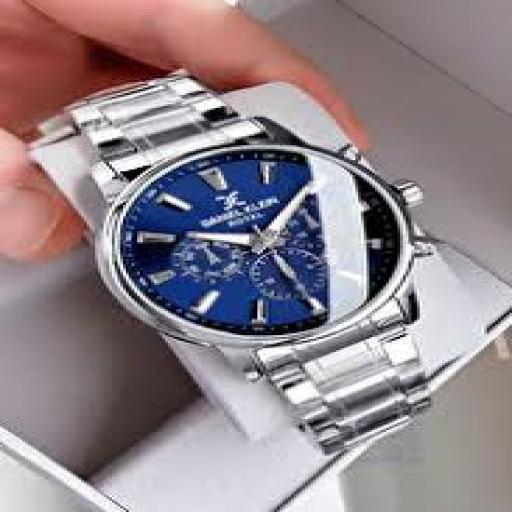KolSaati: (14, 68, 501, 464)
